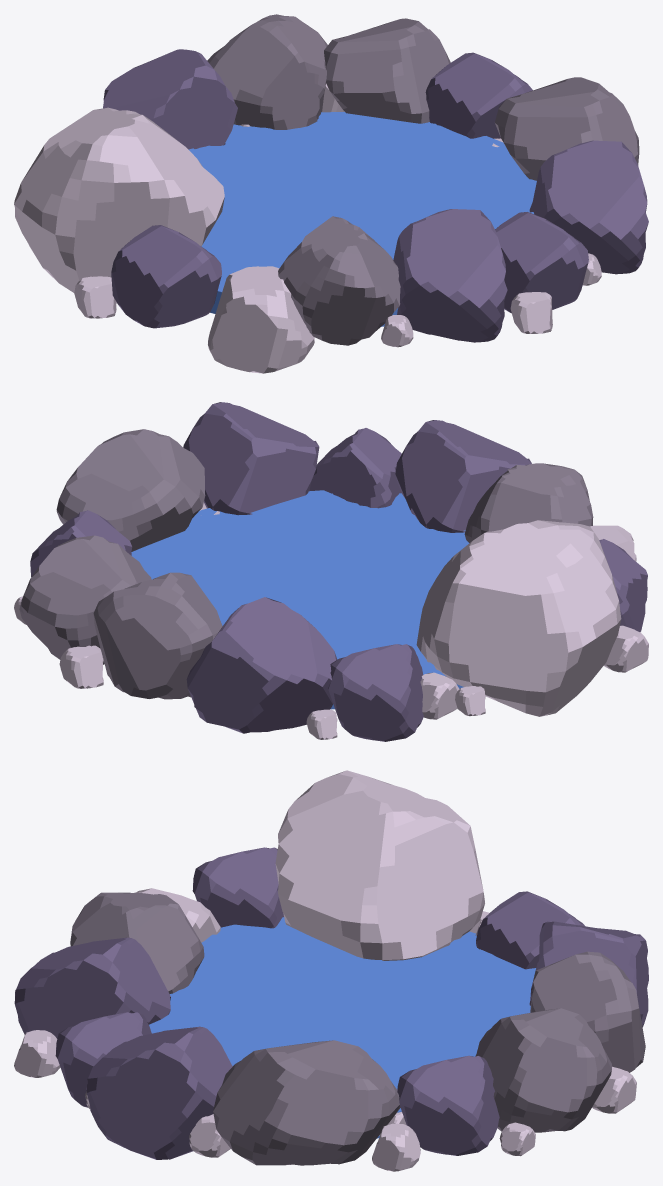
File: water well.fbx
3 views of the same model, one above another, from view 1: azimuth 30°, elevation 25°; view 2: azimuth 150°, elevation 25°; view 3: azimuth 270°, elevation 25° (orthographic). The views are drawn at different scales.
Parts seen in each view (by area): view 1: Sphere, Sphere.002, Cylinder, Sphere.001, Sphere.003; view 2: Sphere, Sphere.002, Cylinder, Sphere.001, Sphere.003; view 3: Sphere, Sphere.002, Cylinder, Sphere.001, Sphere.003.
Part boxes in pixels (x1,y1,x2,y2): Sphere: [103, 49, 648, 342]; Sphere.002: [207, 14, 639, 345]; Cylinder: [188, 112, 536, 326]; Sphere.001: [14, 107, 224, 303]; Sphere.003: [74, 83, 601, 373]; Sphere: [30, 402, 647, 741]; Sphere.002: [19, 429, 593, 699]; Cylinder: [131, 490, 469, 709]; Sphere.001: [416, 520, 621, 716]; Sphere.003: [14, 502, 648, 739]; Sphere: [14, 847, 648, 1159]; Sphere.002: [70, 892, 645, 1165]; Cylinder: [149, 917, 535, 1138]; Sphere.001: [275, 770, 484, 960]; Sphere.003: [14, 888, 636, 1171].
Size of the model in its own units: 1096 by 311 by 1038.
